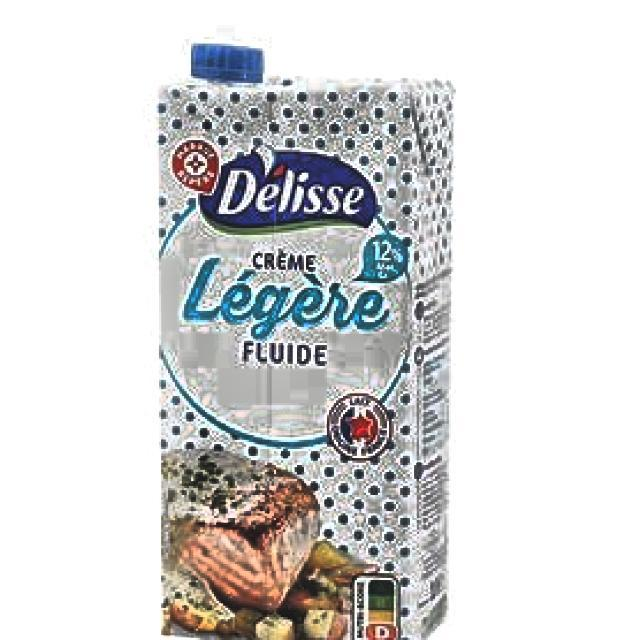cardboard: (154, 60, 454, 640)
